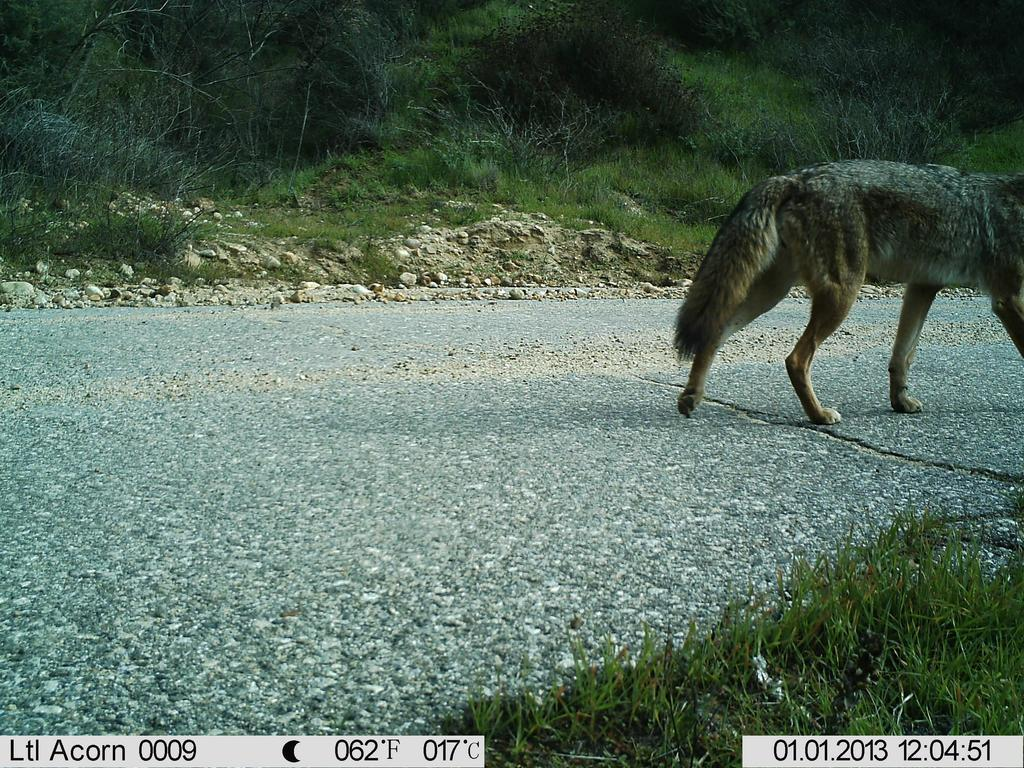coyote: (662, 153, 1023, 437)
